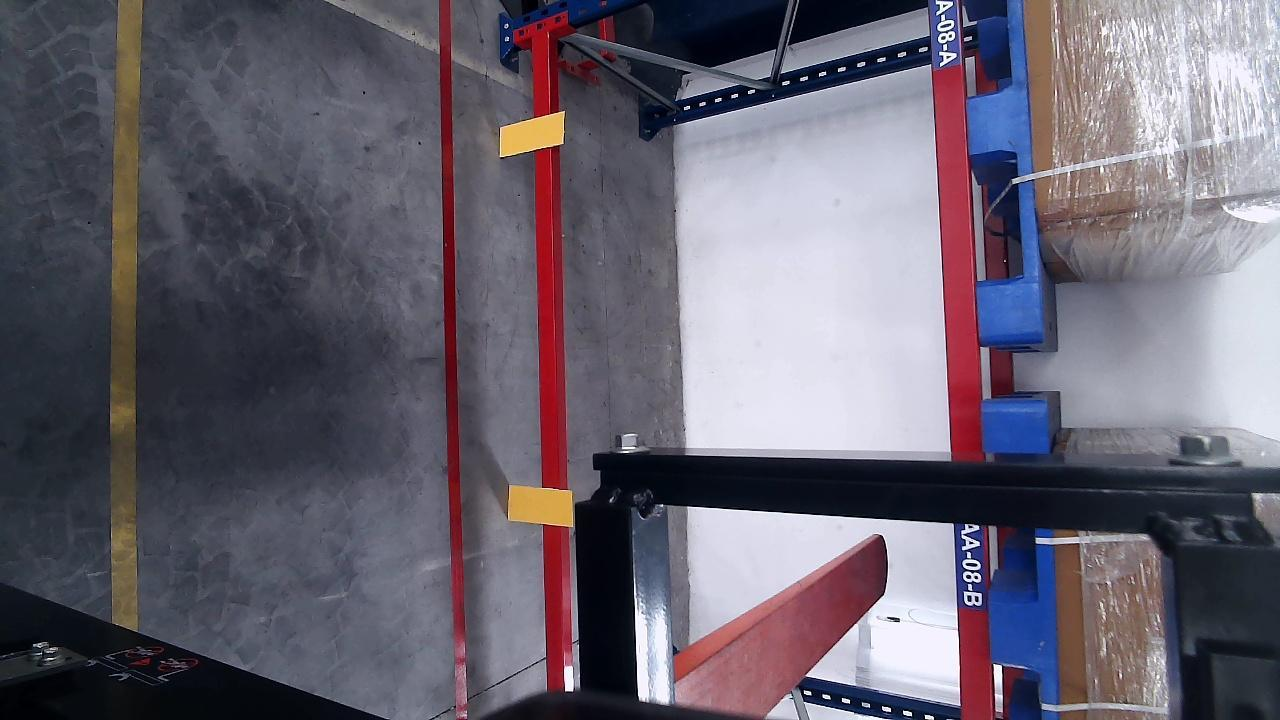h_rack: (928, 2, 995, 718), (531, 34, 566, 691)
orange_strip: (506, 484, 572, 527), (500, 111, 563, 156)
yellow_line: (111, 0, 142, 628)
